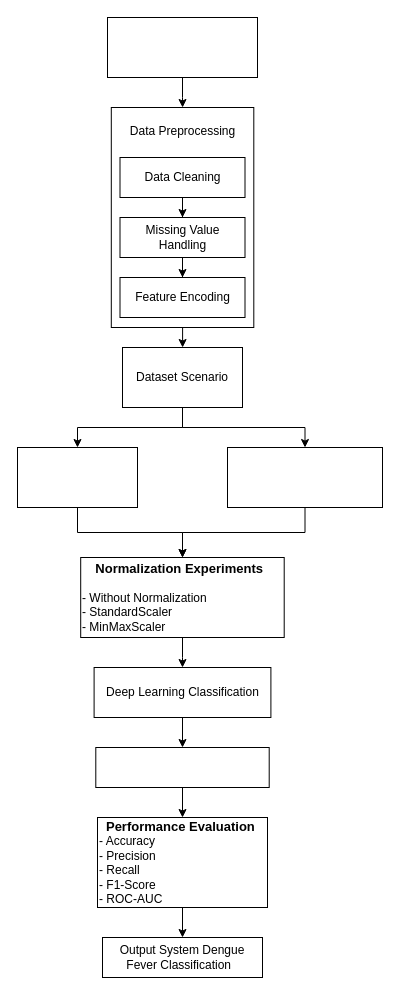
Some shapes in this 400 by 995 pixel diagram are drawn without their labels. The shapes that lost their labels are listed below. From the top down, each one's centre as x and y in pixels, then its label:
At point (182, 47): "Clinical Dataset Symptoms & Laboratory Data".
At point (77, 477): "Full Dataset Symptoms + Laboratory".
At point (304, 477): "Symptoms-Only Dataset Clinical symptoms only".
At point (182, 767): "K-Fold Cross Validation K = 5)".
